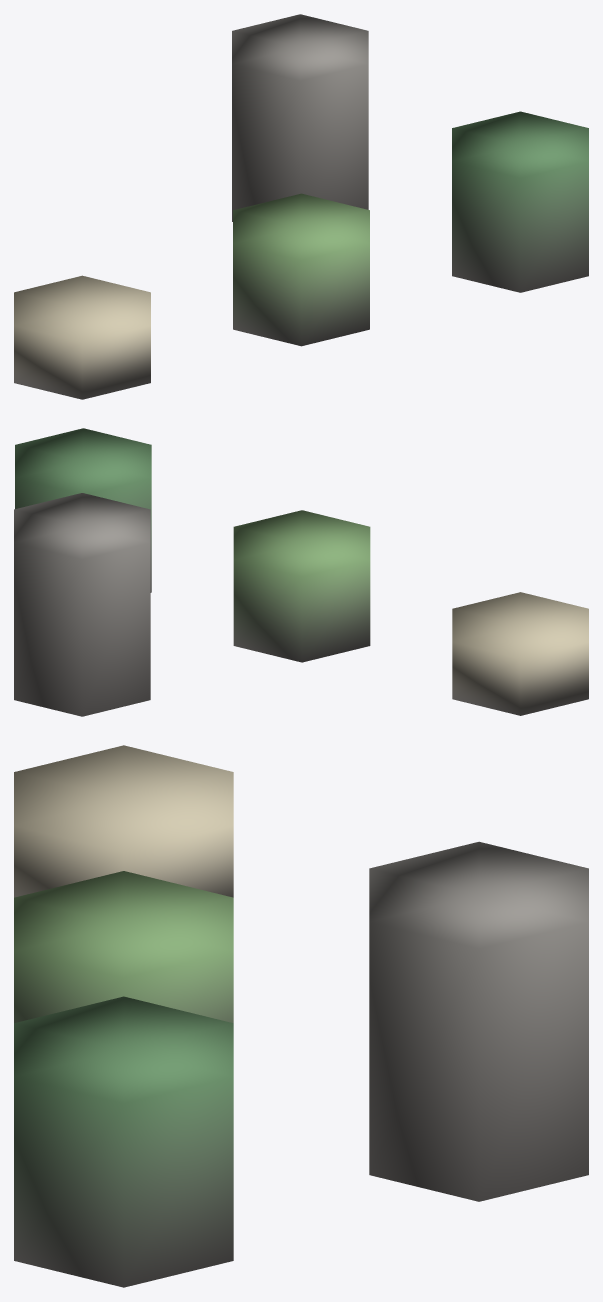
Rendered from gen_hex_tiles.glb.
3 views of the same model, one above another, from view 1: azimuth 30°, elevation 25°; view 2: azimuth 150°, elevation 25°; view 3: azimuth 270°, elevation 25° (orthographic). The views are drawn at different scales.
Parts seen in each view (by area): view 1: gen_hex_tiles; view 2: gen_hex_tiles; view 3: gen_hex_tiles.
Boxes of the visible parts, x1=… form: gen_hex_tiles: x1=14, y1=14, x2=588, y2=399; gen_hex_tiles: x1=14, y1=428, x2=588, y2=716; gen_hex_tiles: x1=14, y1=745, x2=588, y2=1287.
Bounding box in the file's own units: 8.4 × 2.2 × 4.53.
